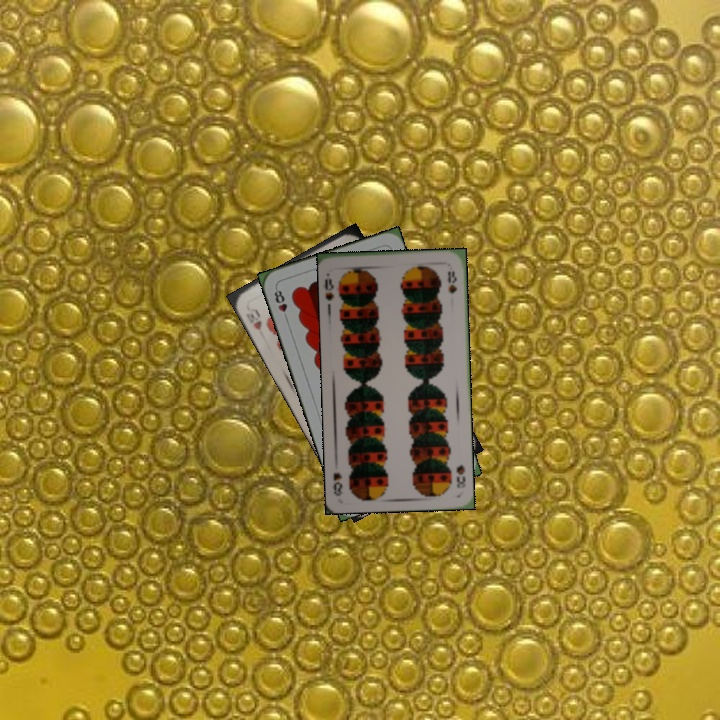H10: (242, 300, 265, 333)
H8: (270, 283, 291, 323)
S8: (452, 460, 468, 490), (321, 275, 336, 303)
